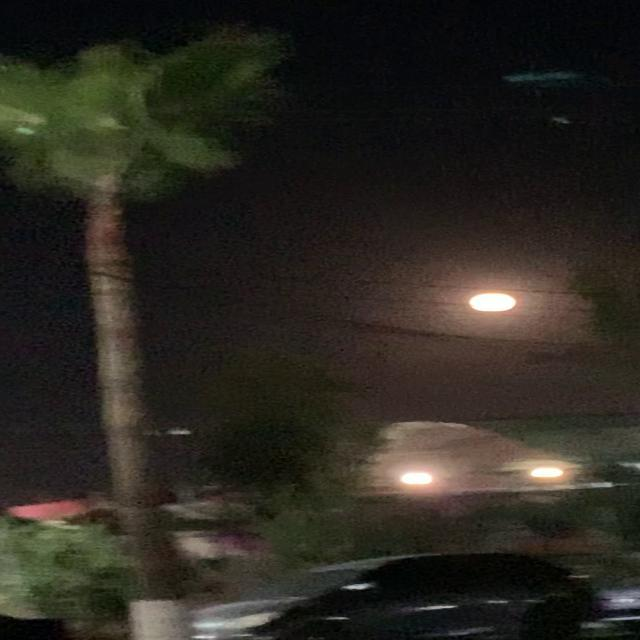moon: (453, 289, 511, 317)
